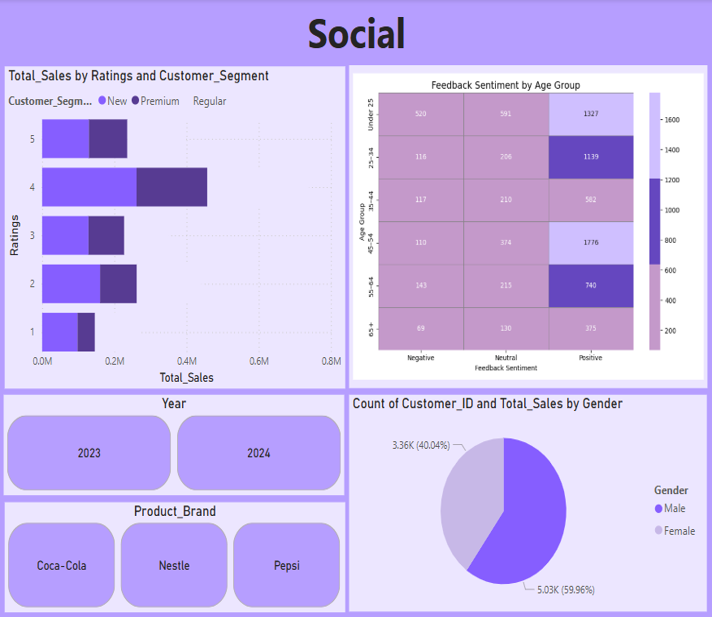

The page's visual inventory and layout, read from the dashboard file:
{"tool":"powerbi","page":{"name":"Social","canvas":[1280,720],"ordinal":3},"visuals":[{"type":"shape","box":[9.6,0,306,720.4],"z":0},{"type":"textbox","box":[315.6,0,964.7,76.8],"z":1000},{"type":"textbox","box":[26.1,38.4,275.8,96.1],"z":2000},{"type":"pageNavigator","box":[62.7,150.9,200.9,561.8],"z":3000},{"type":"barChart","fields":{"Category":["cleaned_new_retail_data.Ratings"],"Series":["cleaned_new_retail_data.Customer_Segment"],"Y":["cleaned_new_retail_data.Total_Sales"]},"box":[322,78,460,374],"z":4000},{"type":"pythonVisual","fields":{"Values":["cleaned_new_retail_data.Total_Sales"]},"box":[788.3,77.5,484.2,375],"z":5000},{"type":"advancedSlicerVisual","fields":{"Values":["cleaned_new_retail_data.Year"]},"box":[321.7,459.2,460,116.7],"z":6000},{"type":"advancedSlicerVisual","fields":{"Values":["cleaned_new_retail_data.Product_Brand"]},"box":[322,584,460,128],"z":7000},{"type":"pieChart","fields":{"Y":["Count(cleaned_new_retail_data.Customer_ID)"],"Category":["cleaned_new_retail_data.Gender"]},"box":[788.3,460,483.3,251.7],"z":8000}]}

Visuals, with their boxes on the page's 1280x720 design canvas (x1, y1, x2, y2). These are canvas units, not pixel positions in the 712x617 screenshot, which may show the page scaled, cropped or inside an application window:
shape: box=[10, 0, 316, 720]
textbox: box=[316, 0, 1280, 77]
textbox: box=[26, 38, 302, 134]
pageNavigator: box=[63, 151, 264, 713]
barChart - cleaned_new_retail_data.Ratings x cleaned_new_retail_data.Customer_Segment: box=[322, 78, 782, 452]
pythonVisual - cleaned_new_retail_data.Total_Sales: box=[788, 78, 1272, 452]
advancedSlicerVisual - cleaned_new_retail_data.Year: box=[322, 459, 782, 576]
advancedSlicerVisual - cleaned_new_retail_data.Product_Brand: box=[322, 584, 782, 712]
pieChart - Count(cleaned_new_retail_data.Customer_ID) x cleaned_new_retail_data.Gender: box=[788, 460, 1272, 712]
